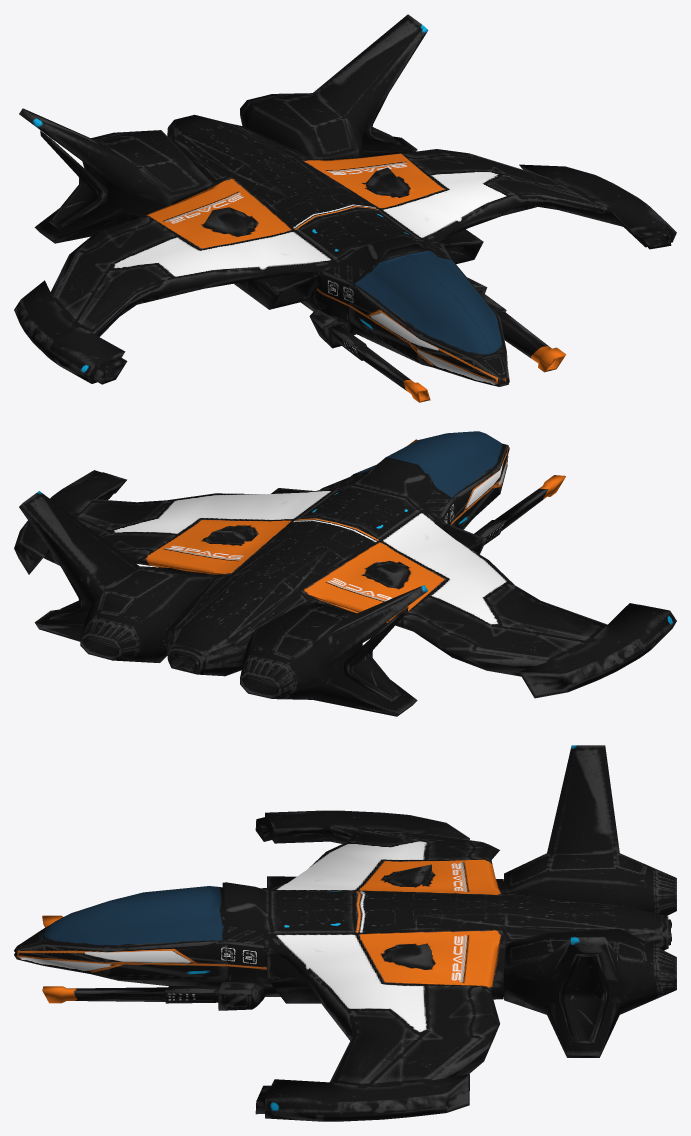
Rendered from asd.glb.
The picture shows the model from 3 angles, top to bottom: view 1: azimuth 30°, elevation 25°; view 2: azimuth 150°, elevation 25°; view 3: azimuth 270°, elevation 25°; orthographic projection. The views are drawn at different scales.
Parts seen in each view (by area): view 1: Object_3; view 2: Object_3; view 3: Object_3.
Part boxes in pixels (x1=…): Object_3: x1=14, y1=14, x2=676, y2=402; Object_3: x1=14, y1=431, x2=676, y2=716; Object_3: x1=14, y1=745, x2=676, y2=1121.
Size of the model in its own units: 34.51 by 7.45 by 32.38.
Materials: 1 (1 with a texture image).
